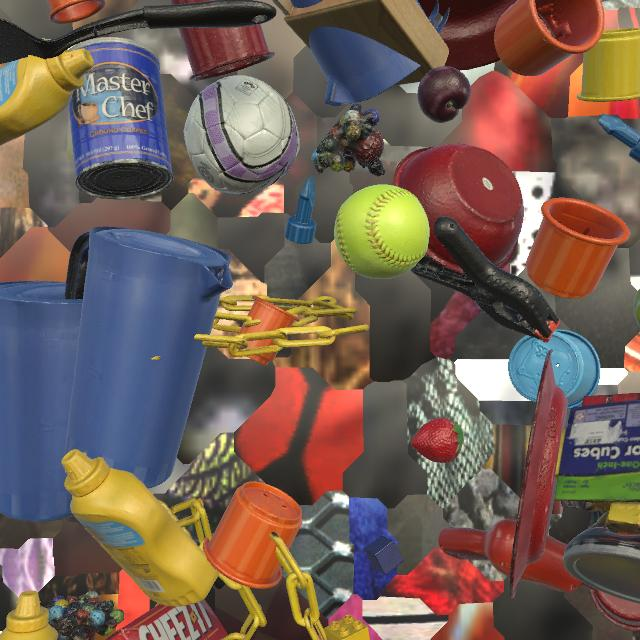ycb_002_master_chef_can: (69, 37, 174, 200)
ycb_003_cracker_box: (105, 599, 228, 640)
ycb_006_mustard_bottle: (61, 449, 219, 607), (0, 48, 94, 146), (0, 590, 58, 640)
ycb_012_strawberry: (411, 418, 464, 463)
ycb_016_pear: (633, 289, 640, 326)
ycb_018_plum: (417, 66, 471, 123)
